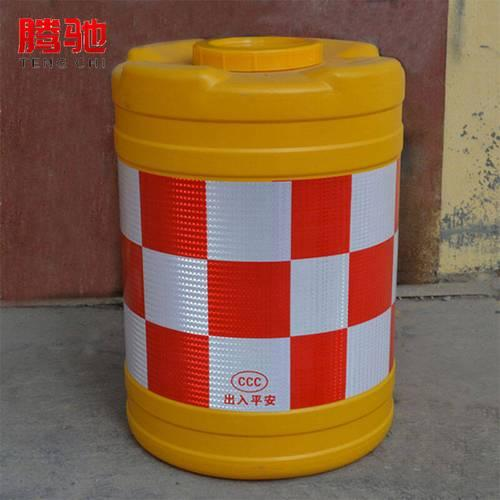sign: (98, 28, 418, 474)
